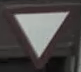Give way: (4, 4, 75, 64)
